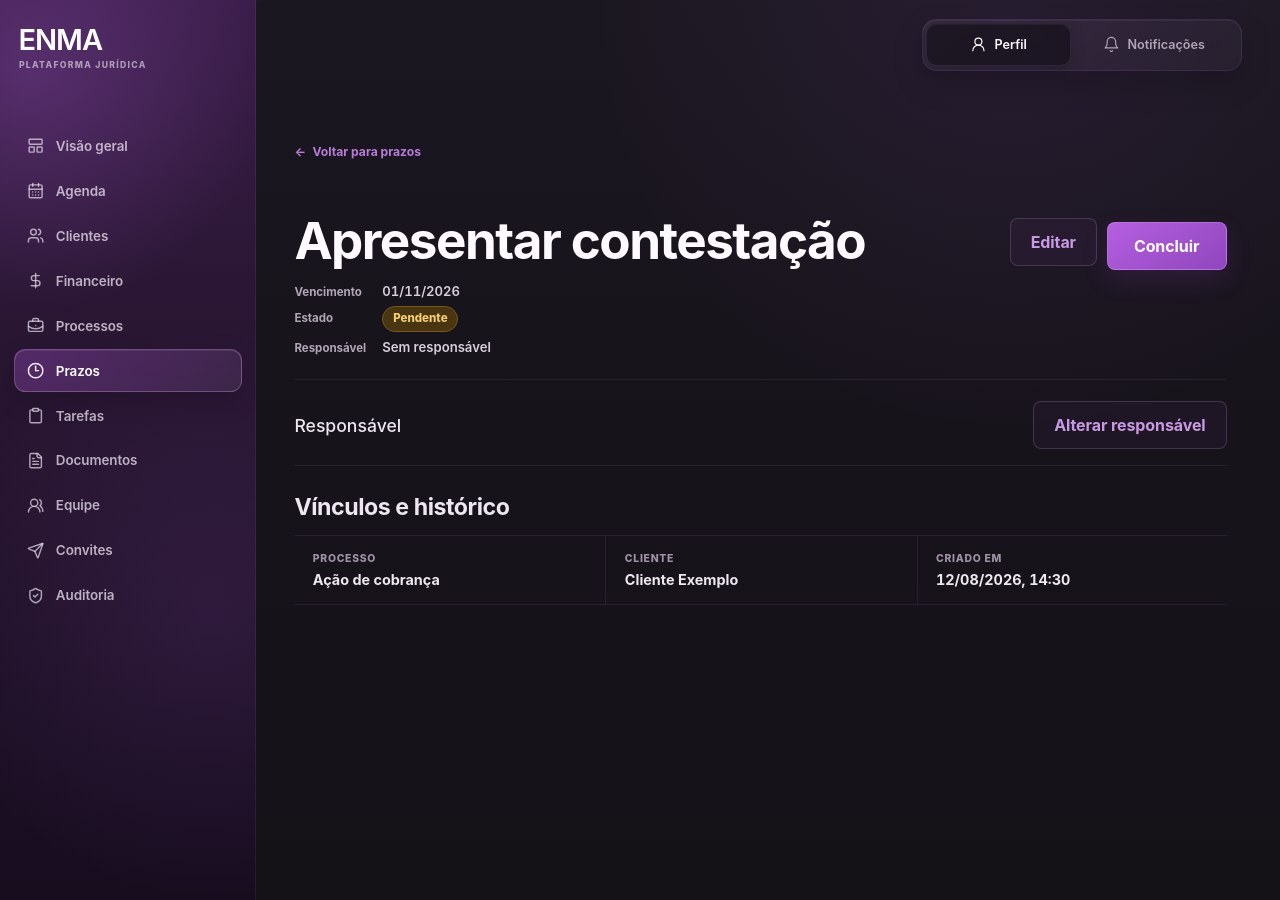
Test: Deadlines D2 detail flow › DeadlineEdit_TrimmedTitleAndLiteralDate_SendsExactCsrfBodyWithoutOptimismThenRefetches
Expected: the heading "Apresentar contestação" is shown, top-left (294, 214), bottom-right (865, 268)
Click the button "Editar": [1053, 242] box top-left (1010, 218), bottom-right (1097, 266)
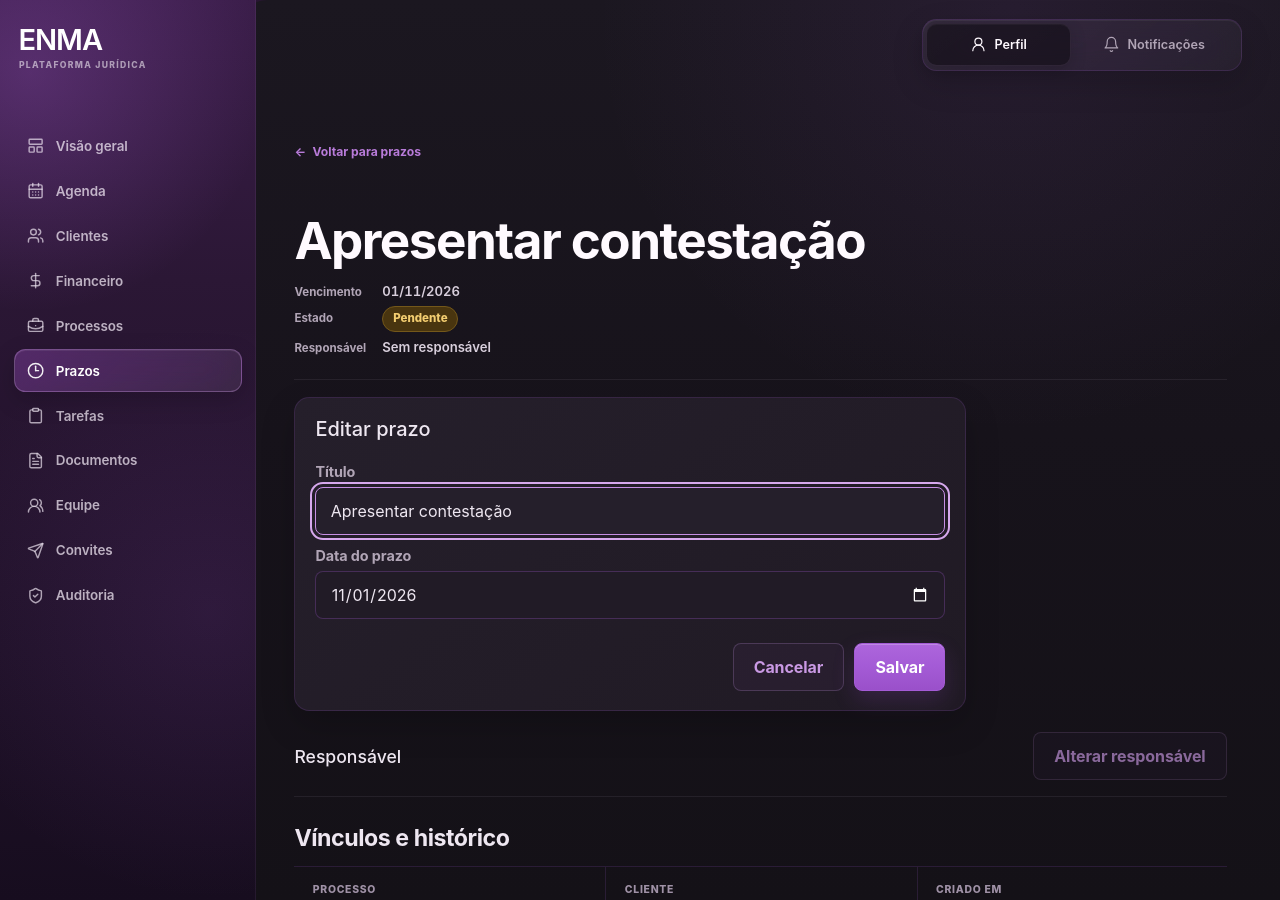
Replace the text in the field labelled "Título" with "  Título enviado  ": [630, 511] box top-left (315, 487), bottom-right (945, 535)
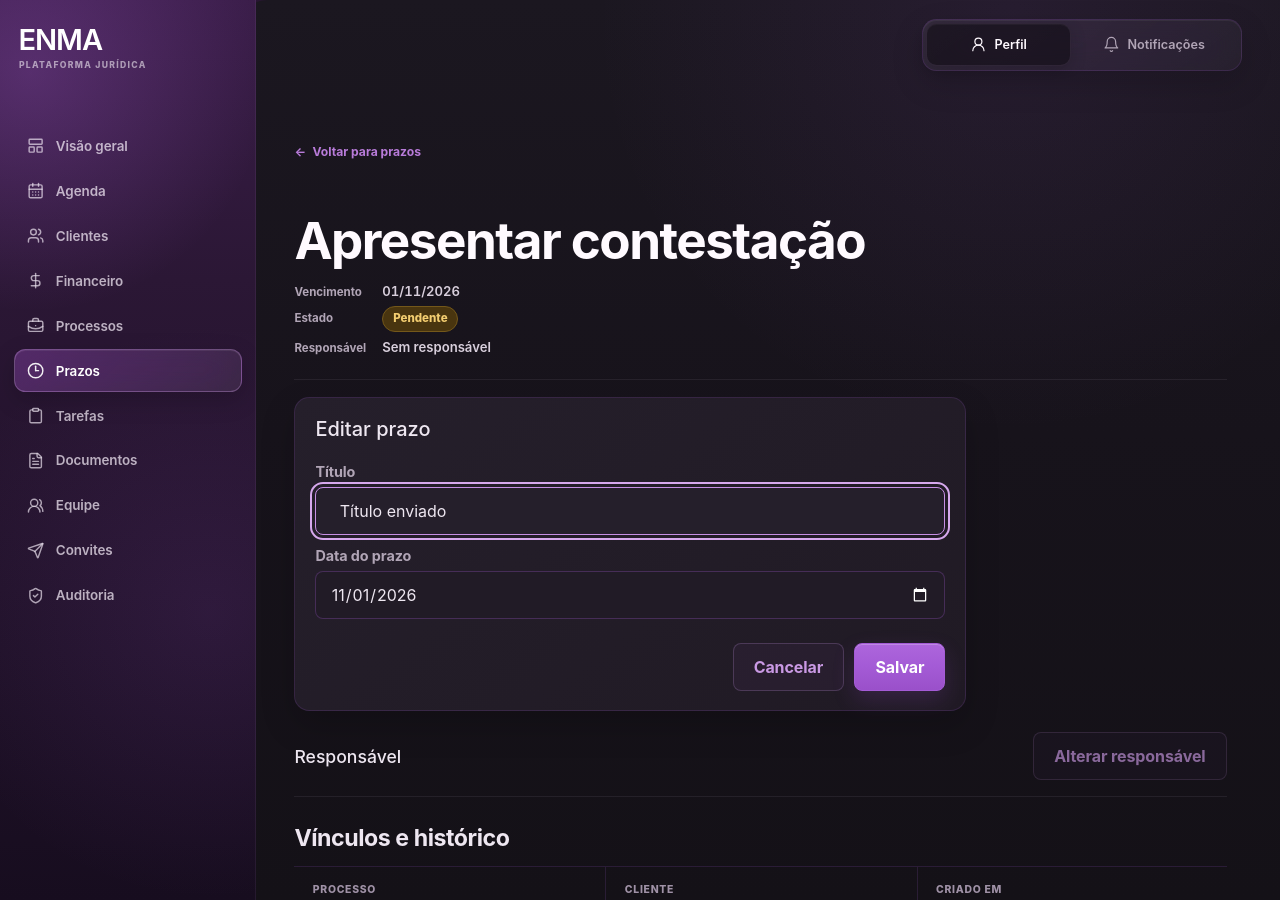
In the date field labelled "Data do prazo": [630, 595] box top-left (315, 571), bottom-right (945, 619), type "2020-02-29"
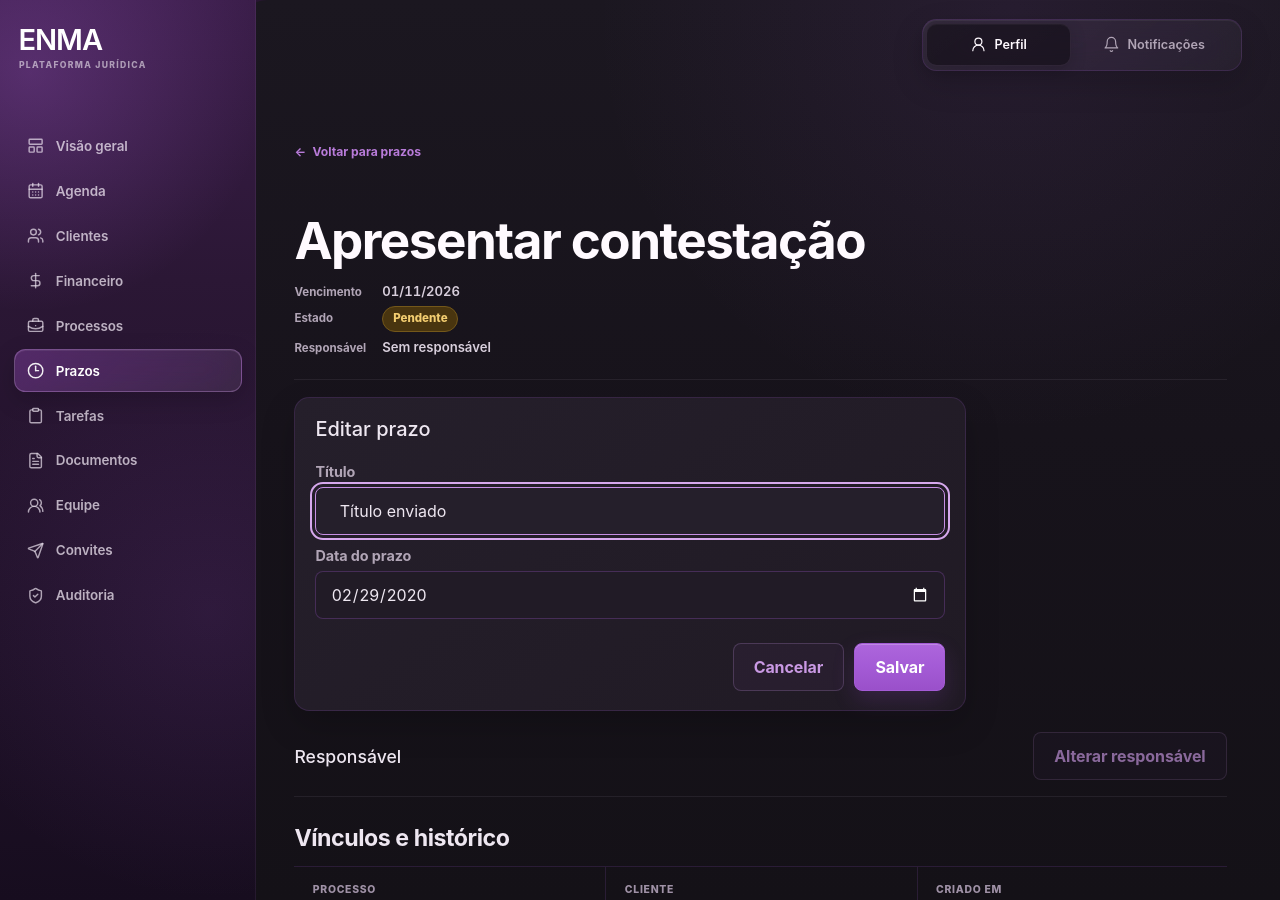
Submit the form "Salvar", box top-left (294, 397), bottom-right (966, 711)
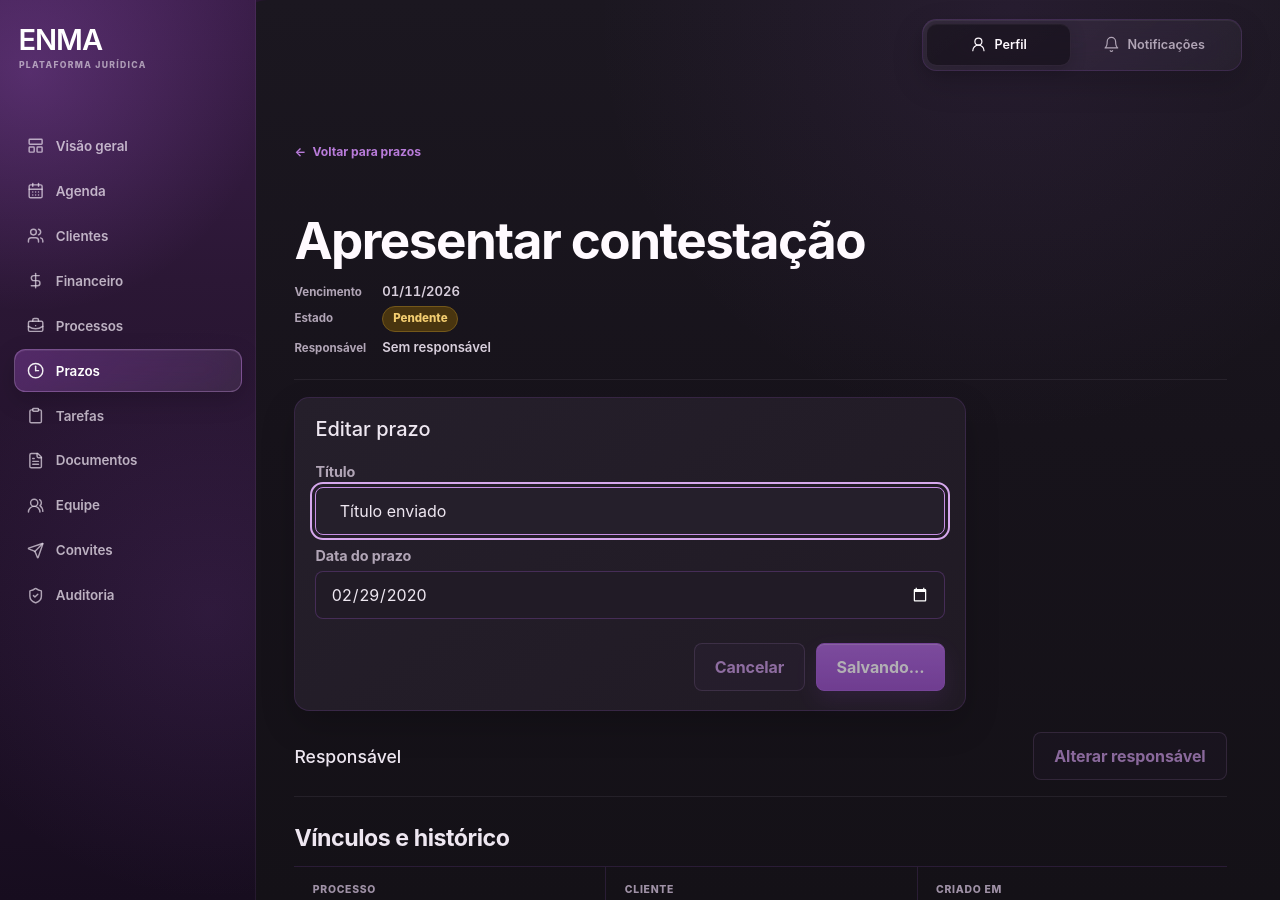
Now the button "Salvando..." is disabled, box top-left (816, 643), bottom-right (945, 691)
Submit the form named "Salvar", box top-left (294, 397), bottom-right (966, 711)
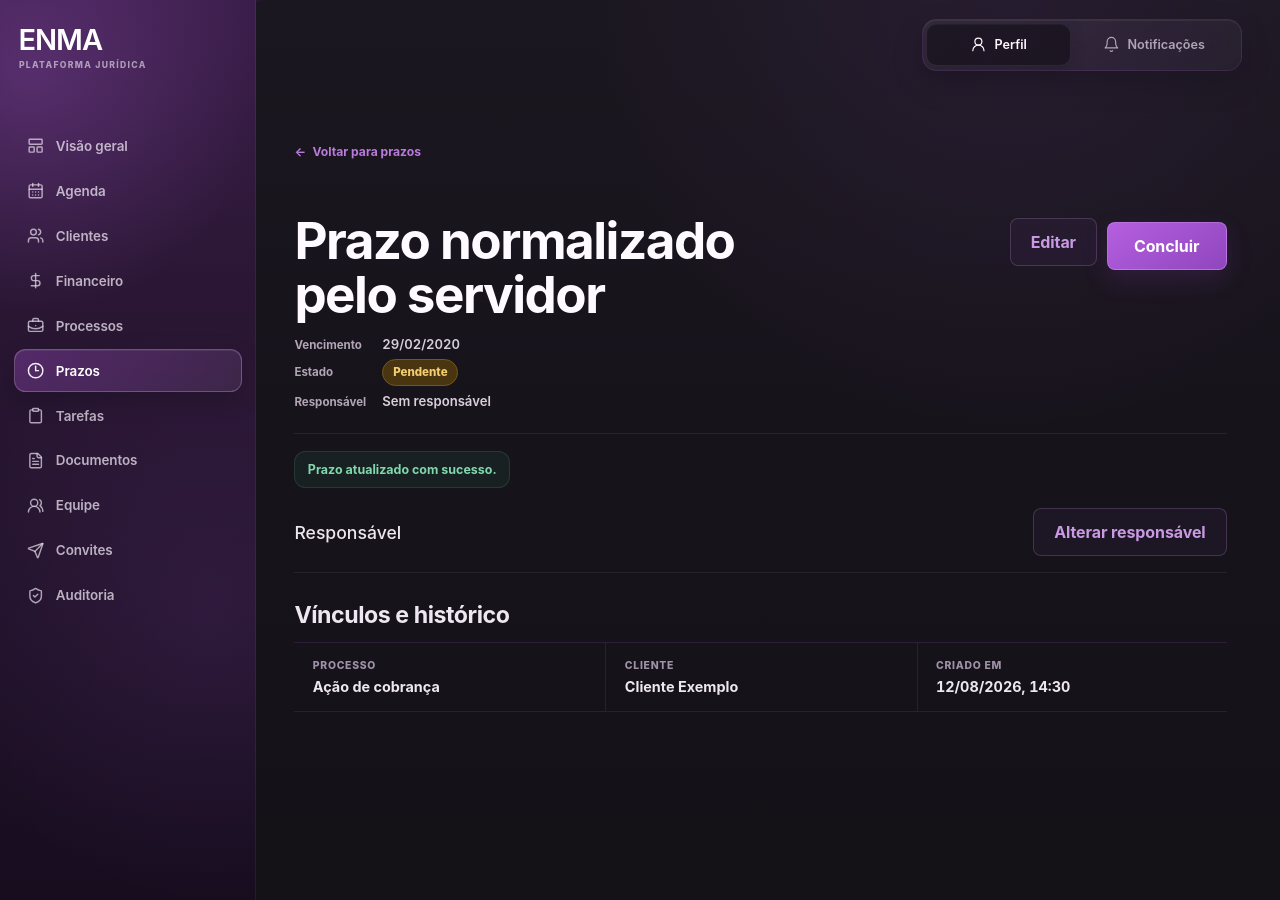
Now the heading "Prazo normalizado pelo servidor" is shown, box top-left (294, 209), bottom-right (734, 325)
Now the text "29/02/2020" is shown, box top-left (382, 336), bottom-right (460, 352)
